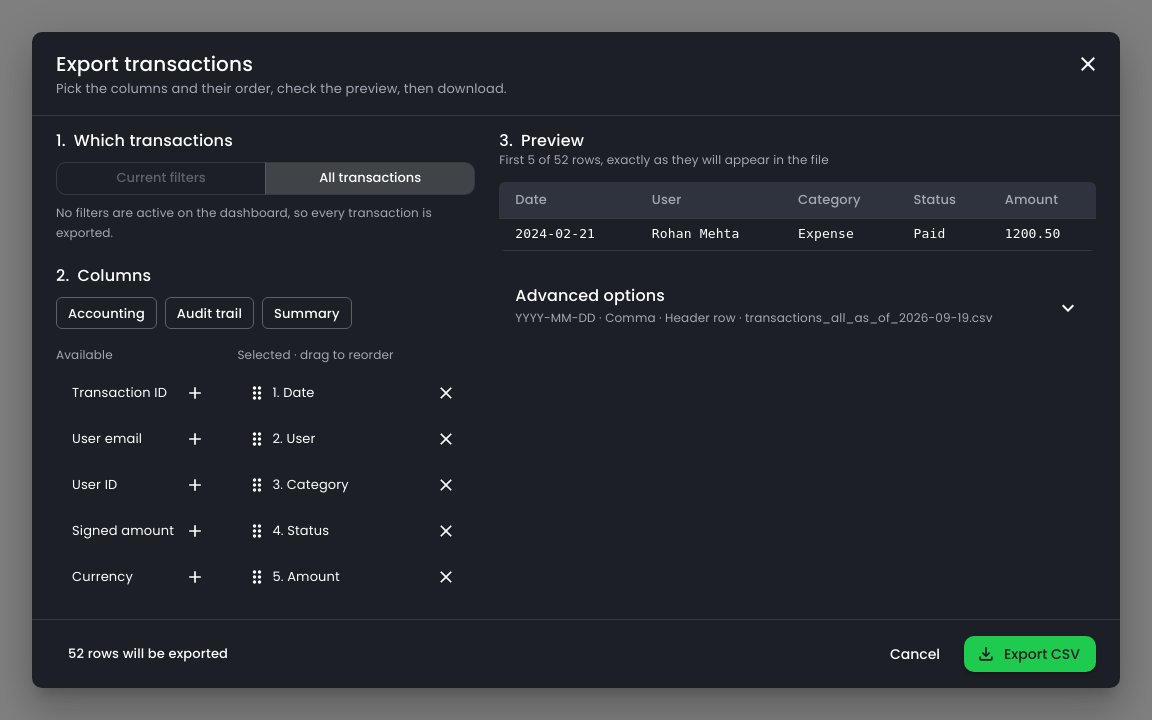
Test: ExportDialog › disables Export when every column is removed
Expected: the text "52 rows will be exported" is shown, [56,644,240,664]
Click the button named "Remove Date" at [446, 393], box [431,378,461,408]
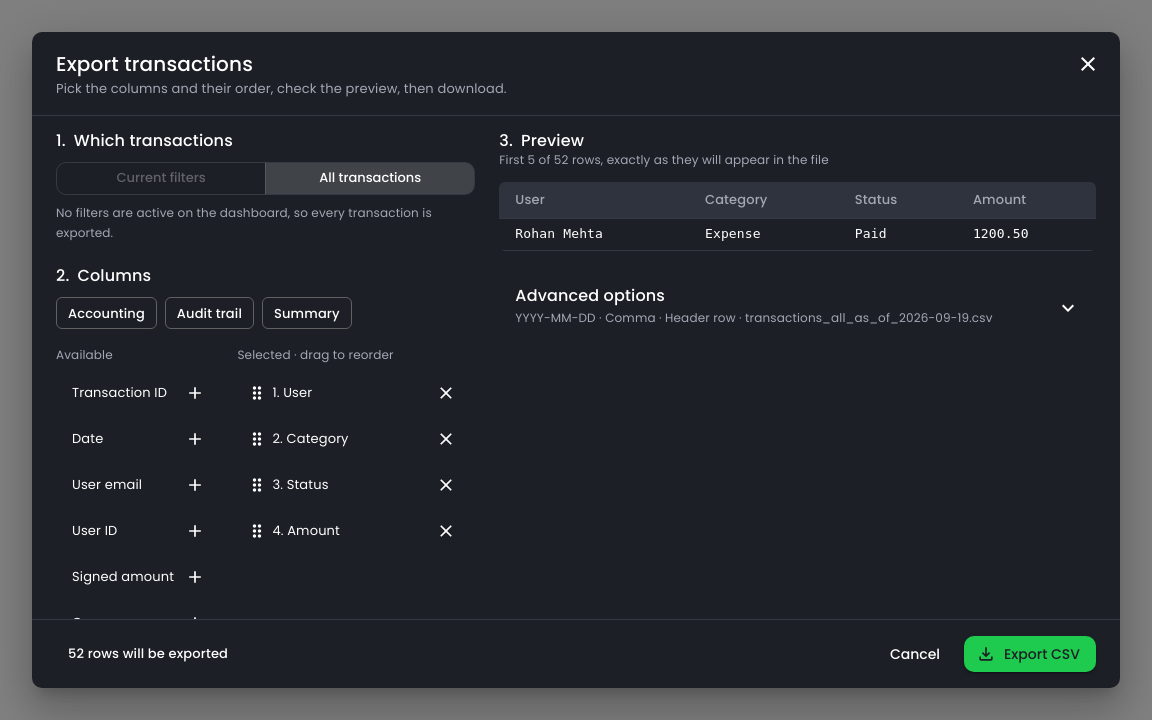
Click the button named "Remove User" at [446, 393], box [431,378,461,408]
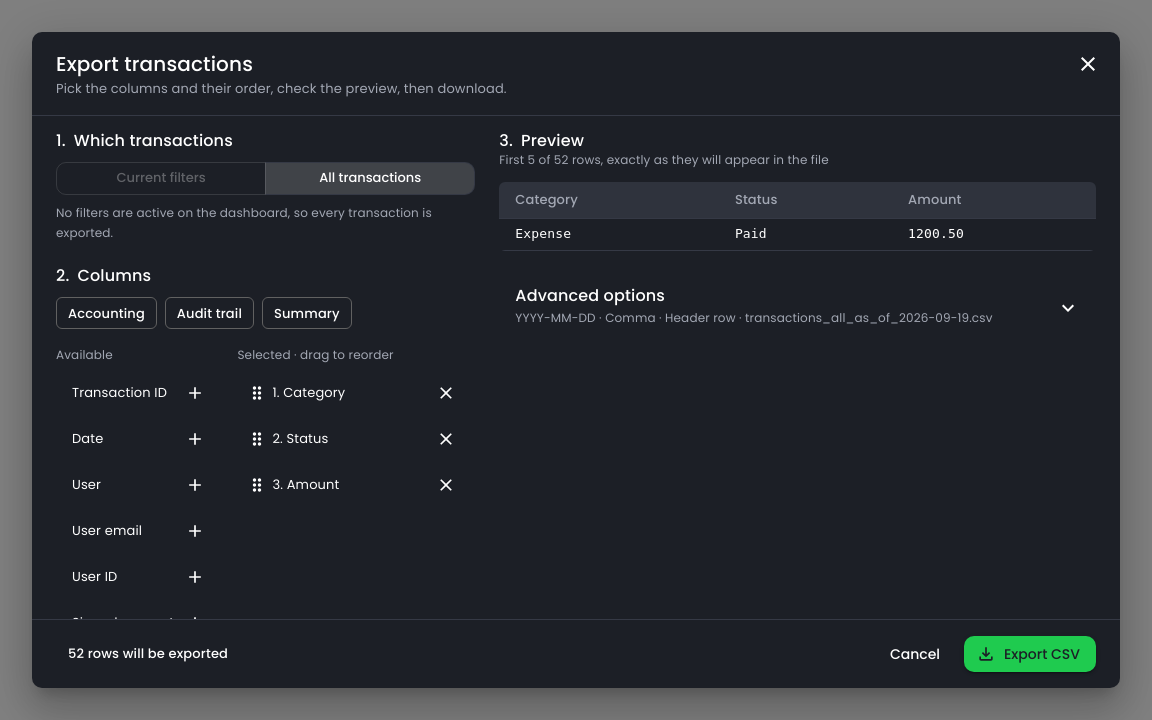
Click the button named "Remove Category" at [446, 393], box [431,378,461,408]
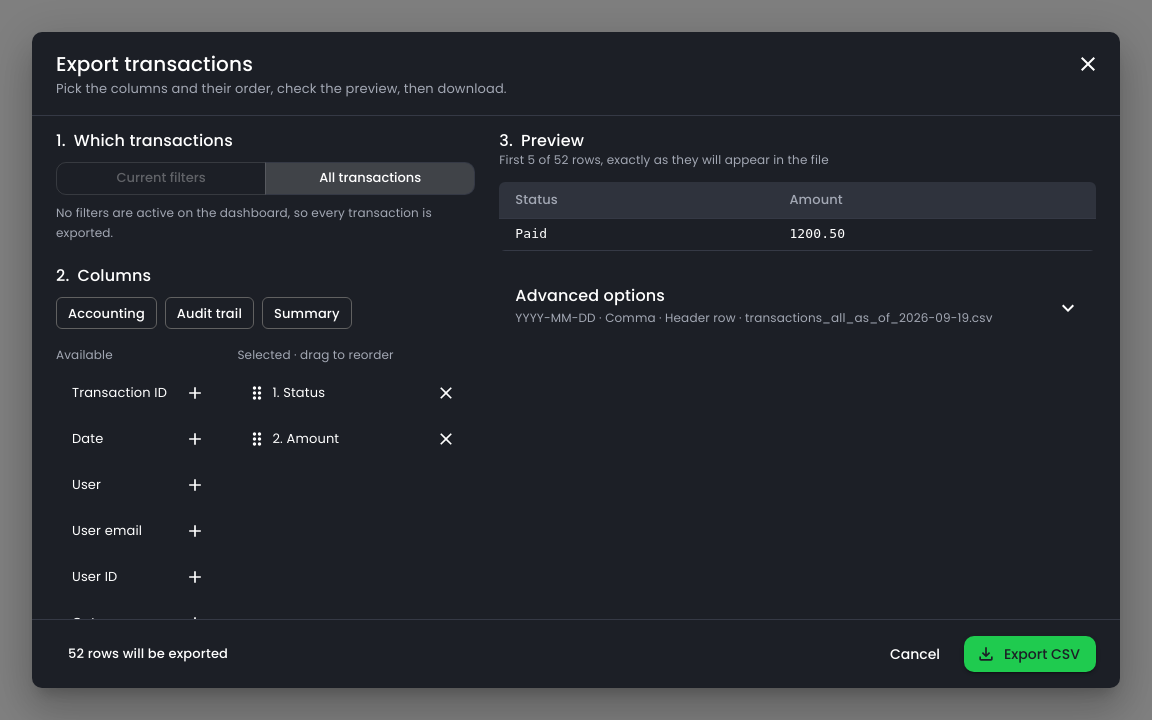
Click the button named "Remove Status" at [446, 393], box [431,378,461,408]
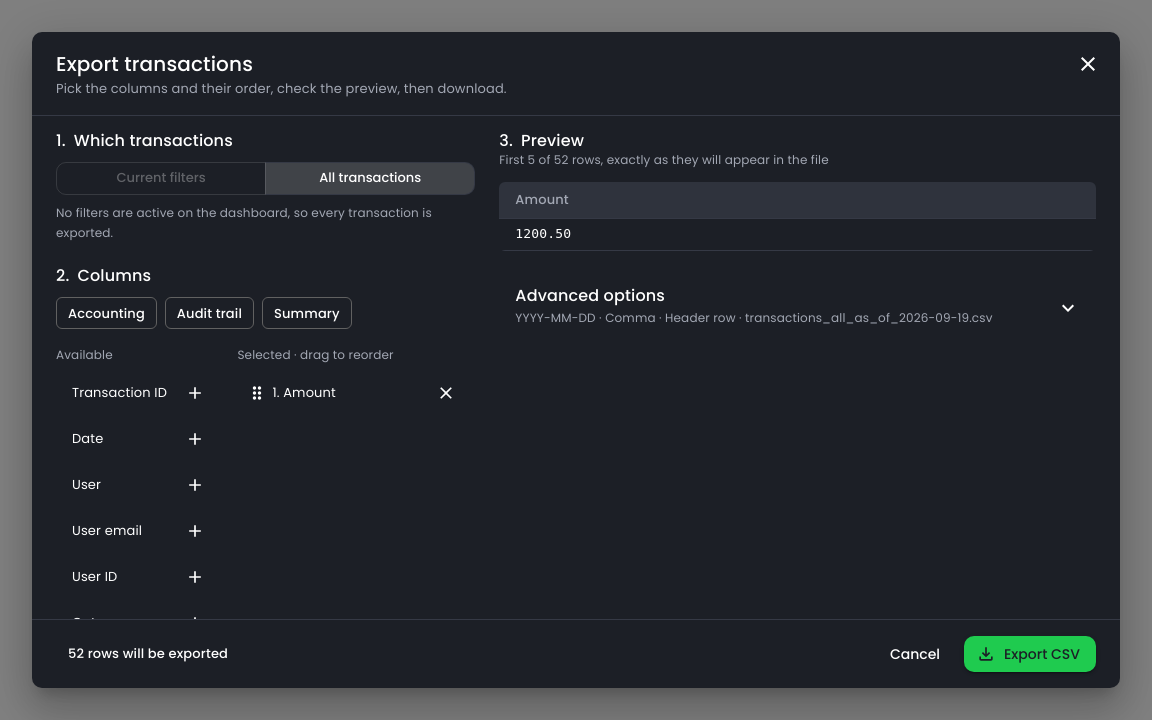
Click the button named "Remove Amount" at [446, 393], box [431,378,461,408]
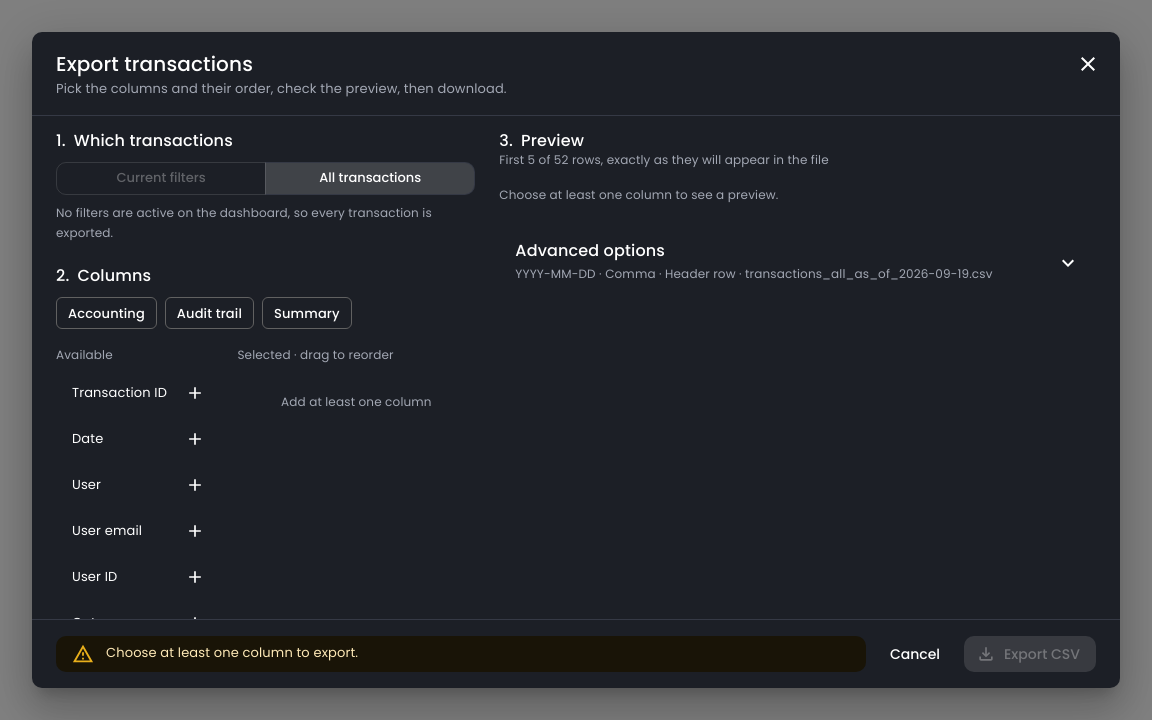
Result: the text "Choose at least one column to export." is shown at [106,643,358,662]
Result: the button "Export CSV" is disabled at [964,636,1096,672]
